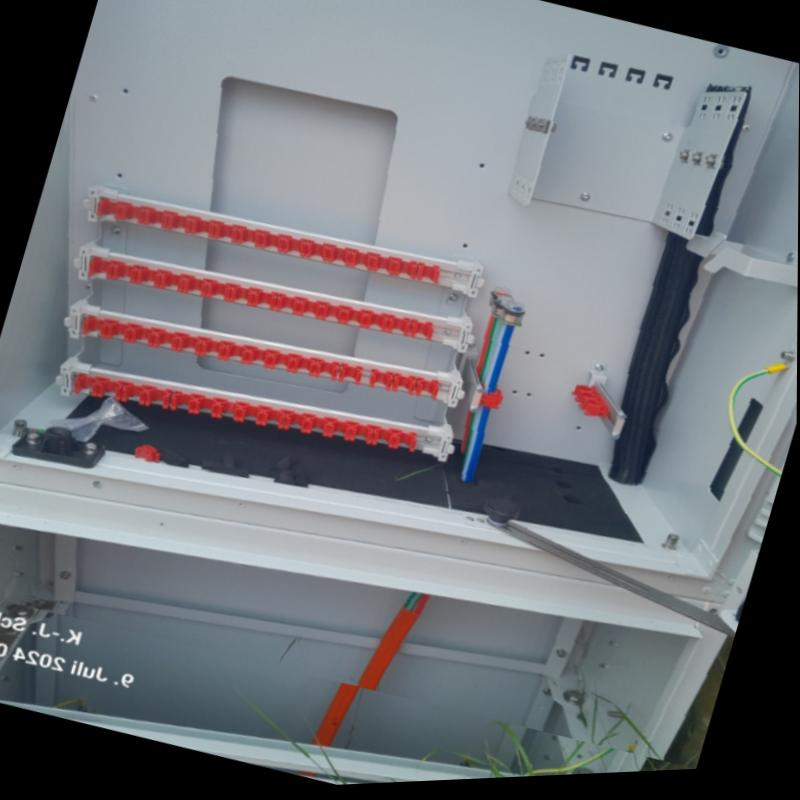NT-Gehause: (0, 0, 800, 799)
